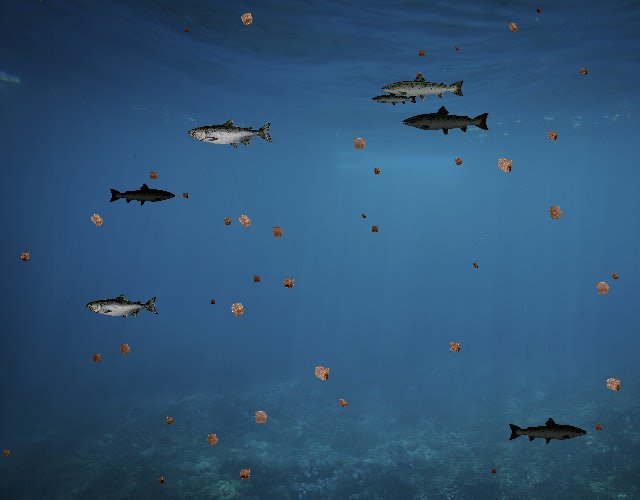Fish: (401, 104, 491, 136), (380, 72, 466, 103), (188, 118, 274, 149), (507, 416, 588, 445), (87, 293, 160, 320), (109, 183, 177, 207), (372, 90, 419, 107)
Pellet: (247, 404, 274, 431), (347, 131, 372, 156), (233, 463, 256, 485), (503, 17, 523, 37), (368, 222, 382, 236), (179, 189, 192, 202), (452, 42, 462, 52)
